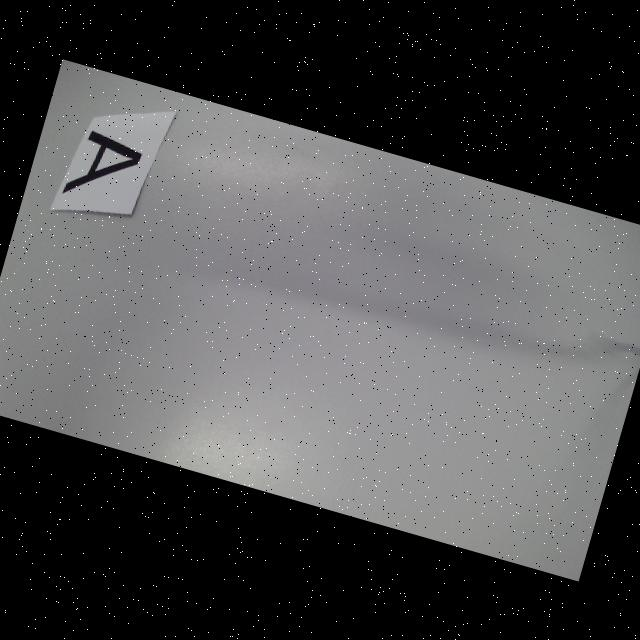FAKE: (62, 127, 144, 212)
